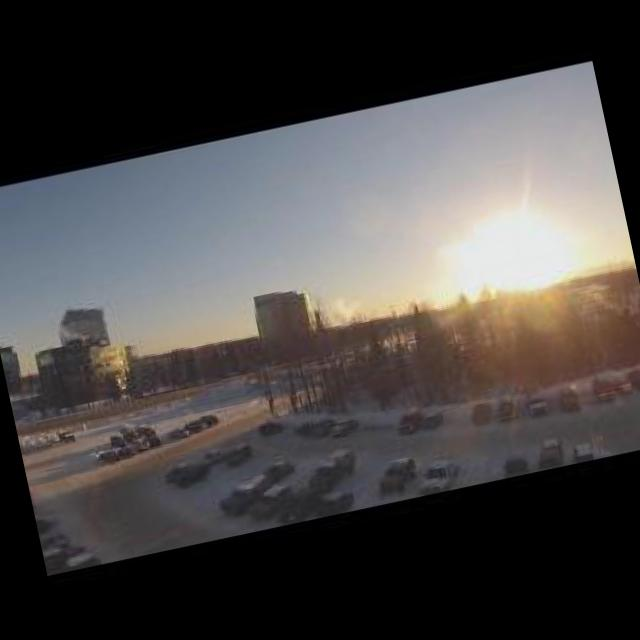smoke: (54, 321, 90, 347)
